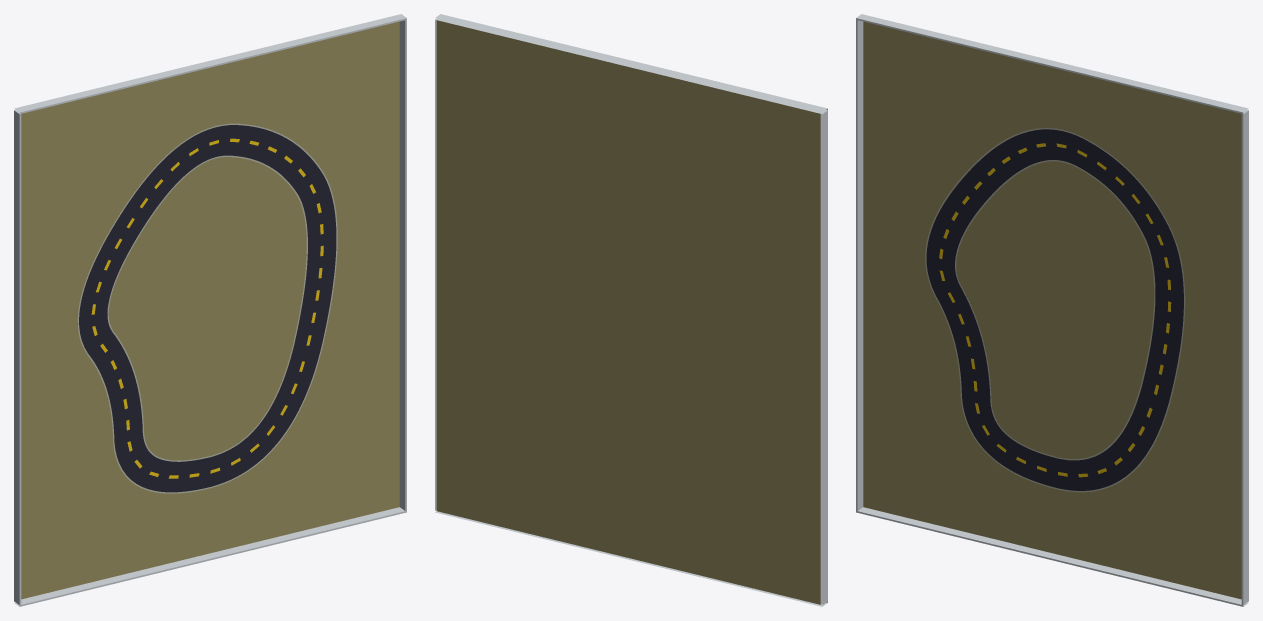
The model's file is track.obj.
3 views of the same model, side by side, from view 1: azimuth 30°, elevation 25°; view 2: azimuth 150°, elevation 25°; view 3: azimuth 330°, elevation 25° (orthographic).
Size of the model in its own units: 12.05 by 14.7 by 0.3.
5 materials, 5 textured.
